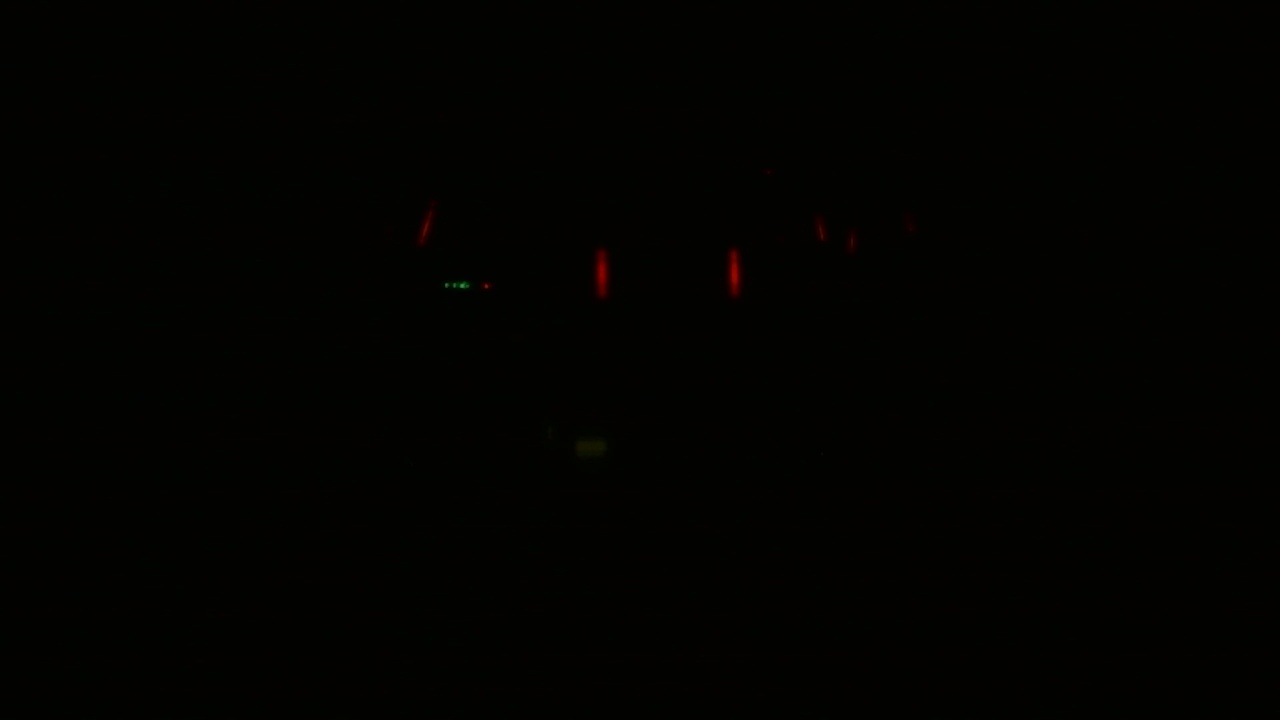pair1: (594, 243, 740, 297)
